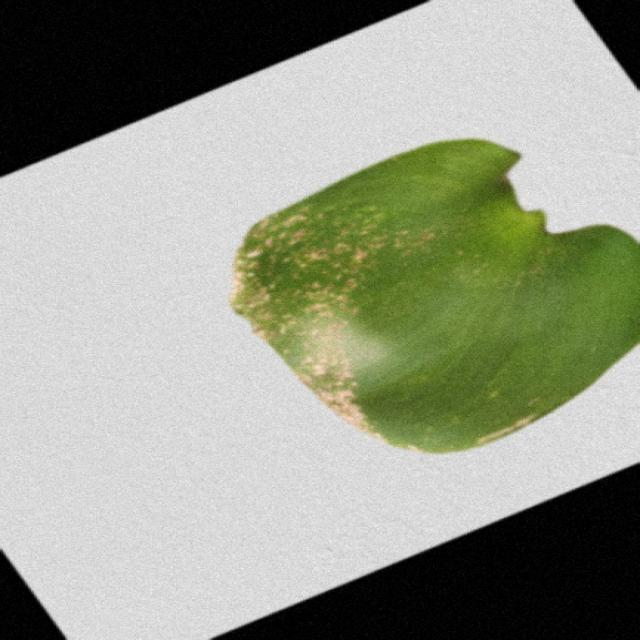daun berpenyakit bercak: (230, 139, 638, 452)
